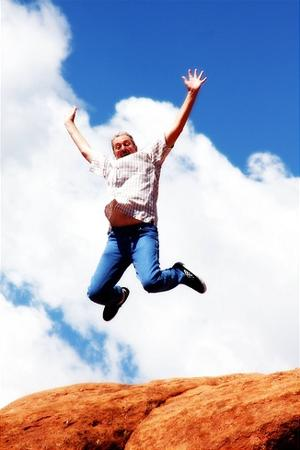person: (63, 68, 208, 324)
